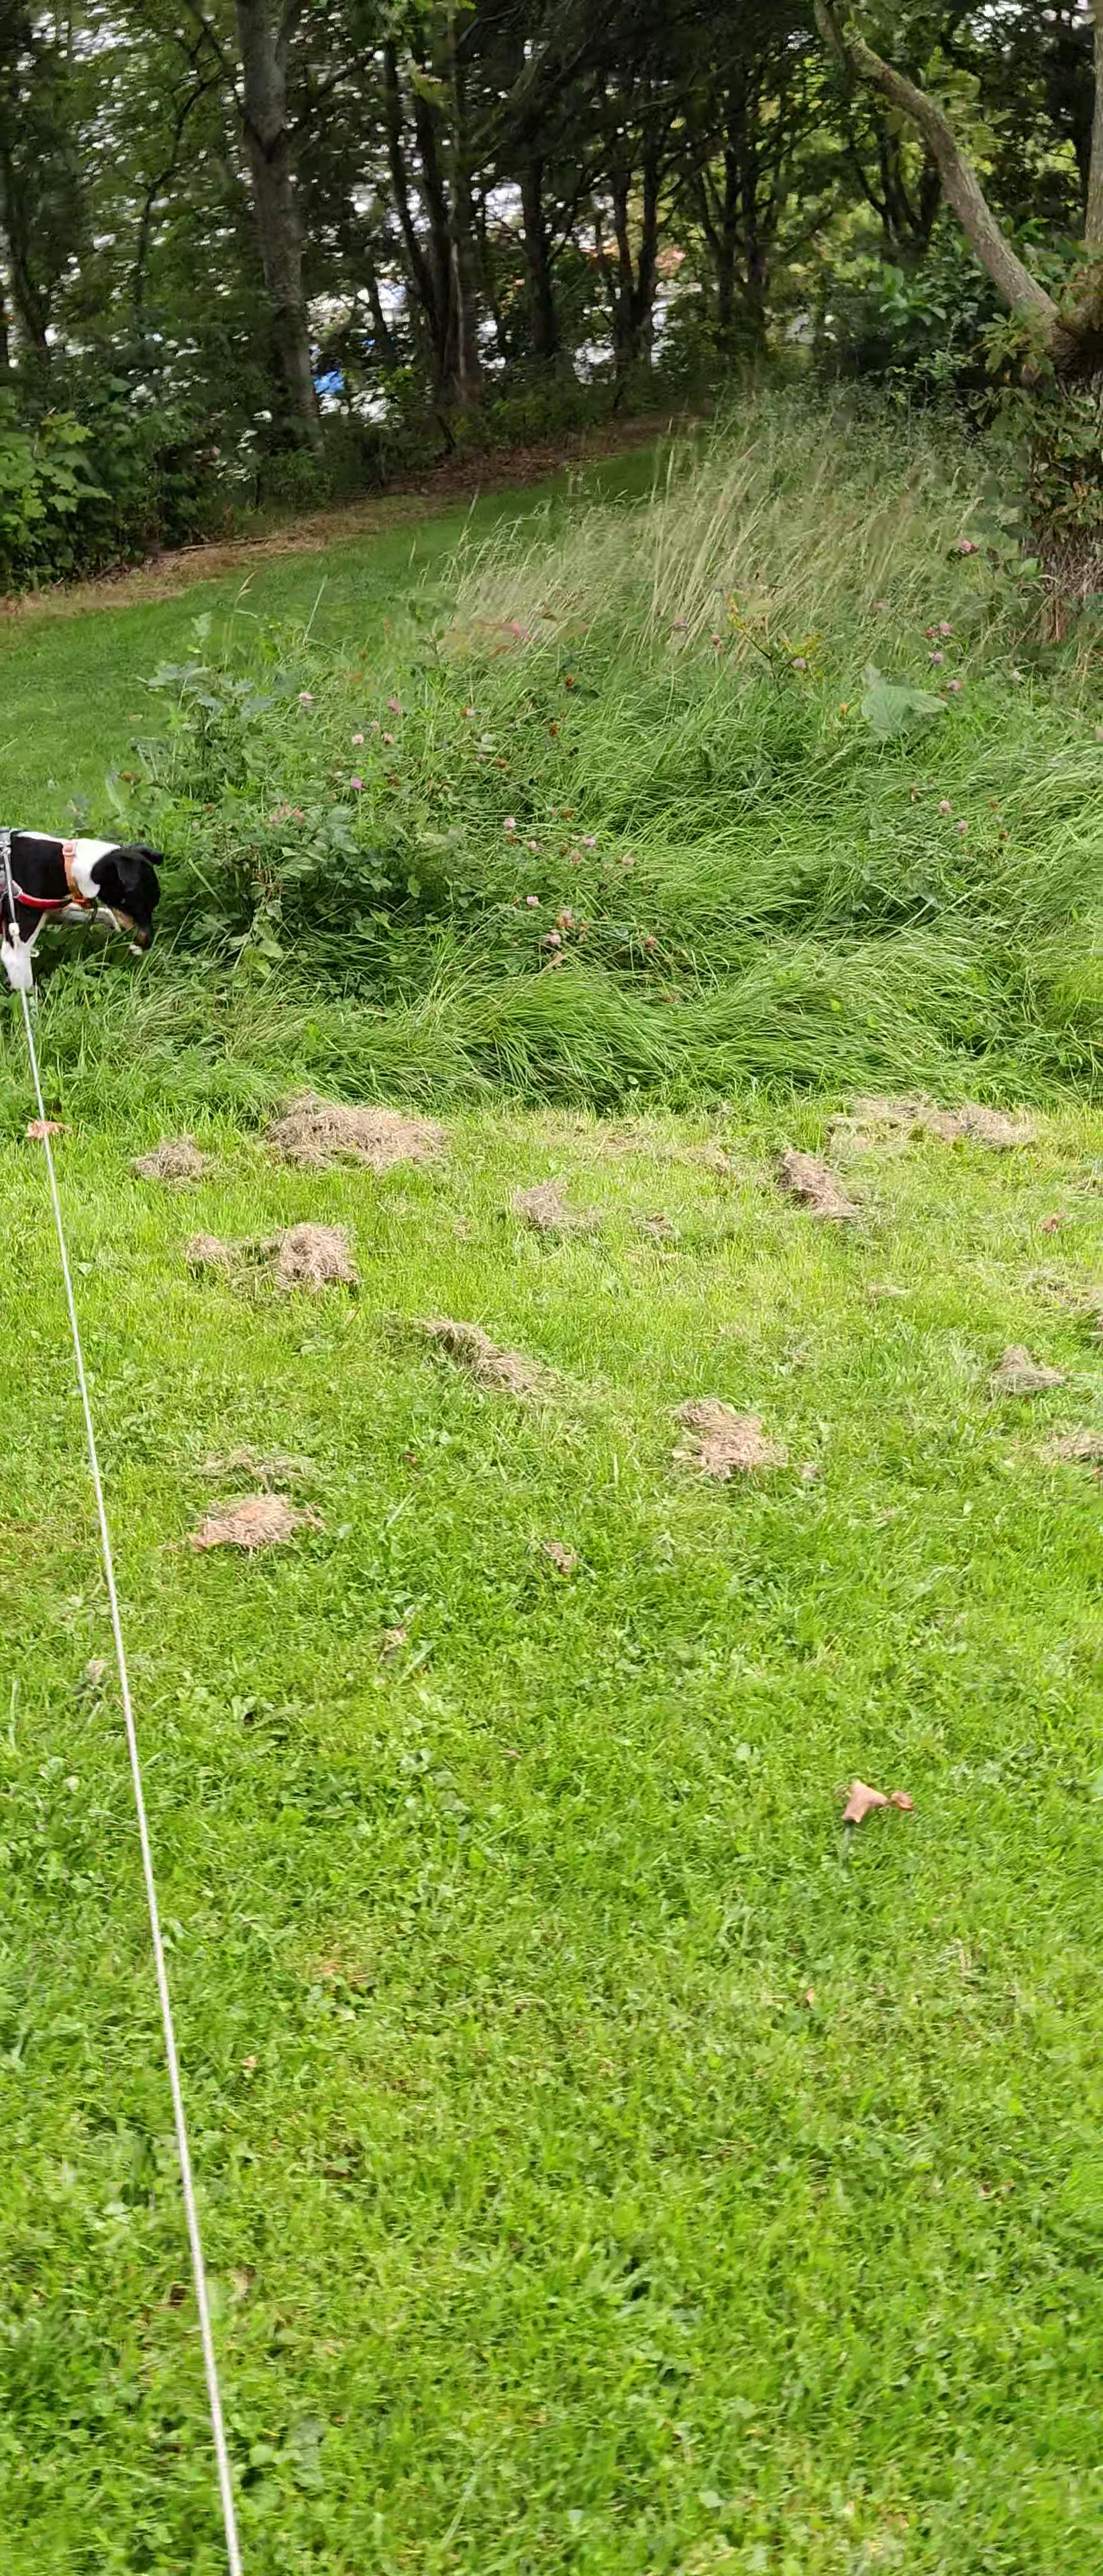Dog: (0, 816, 168, 997)
